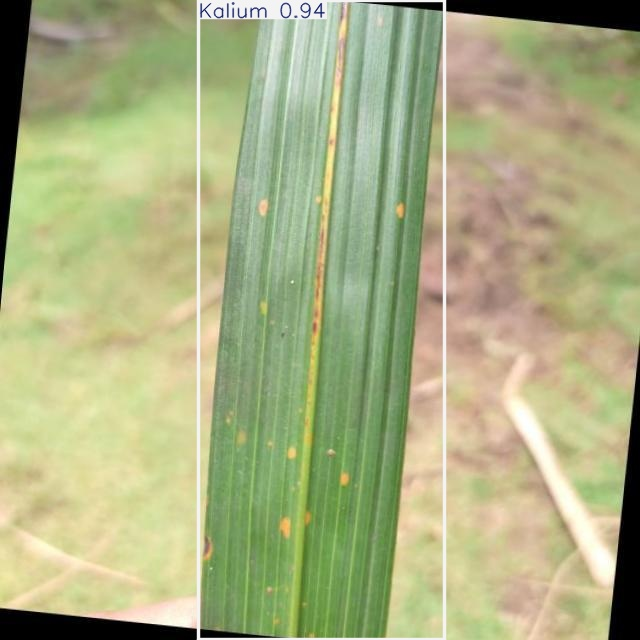Kalium: (198, 0, 445, 640)
